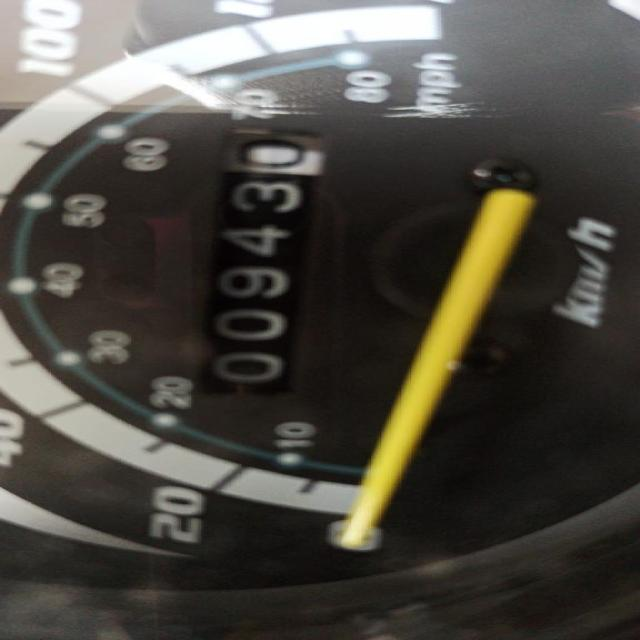odometer: (185, 121, 334, 398)
